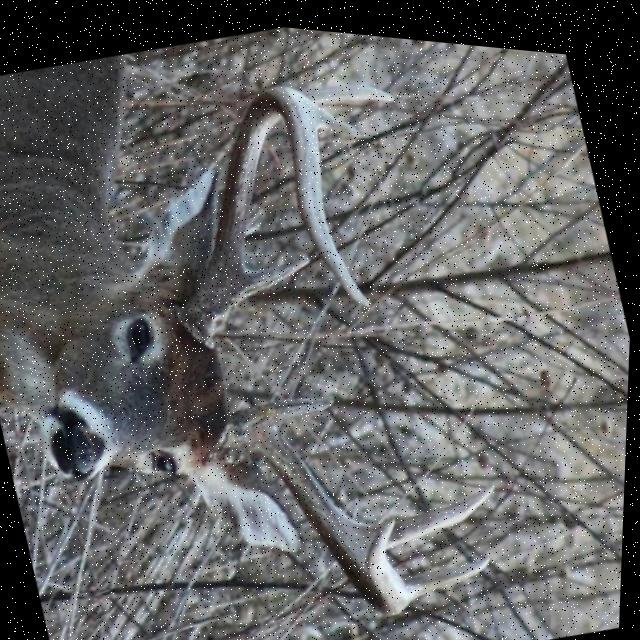L-F: (176, 78, 372, 343)
L-G1: (242, 248, 313, 293)
L-G3: (307, 90, 361, 132)
R-F: (205, 400, 411, 607)
R-G1: (260, 384, 338, 423)
R-G3: (405, 542, 495, 594)
